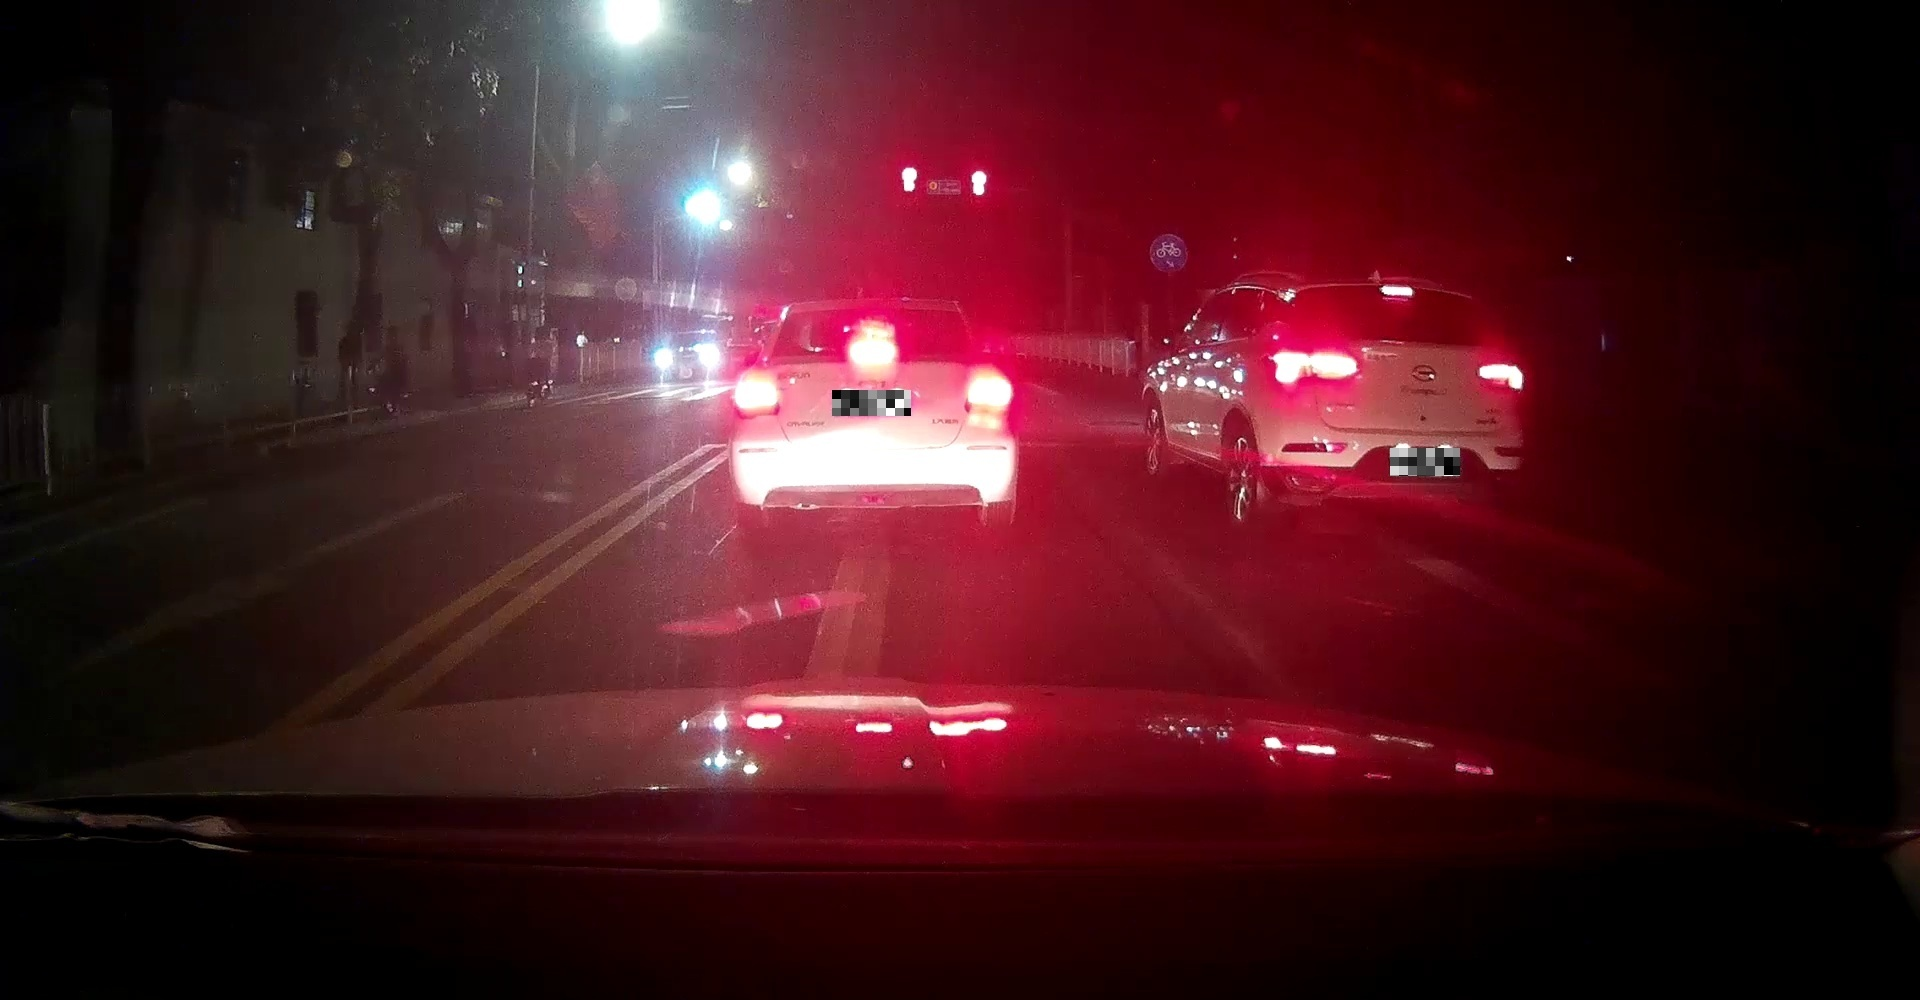L_light: (1271, 352, 1357, 385), (731, 371, 781, 419)
R_light: (965, 373, 1012, 414), (1479, 363, 1524, 392)
T_light: (848, 343, 898, 360), (1380, 283, 1415, 296)
night-brake: (726, 299, 1018, 538), (1265, 272, 1529, 529)
plate_1: (832, 390, 910, 416)
plate_2: (1390, 448, 1460, 476)
